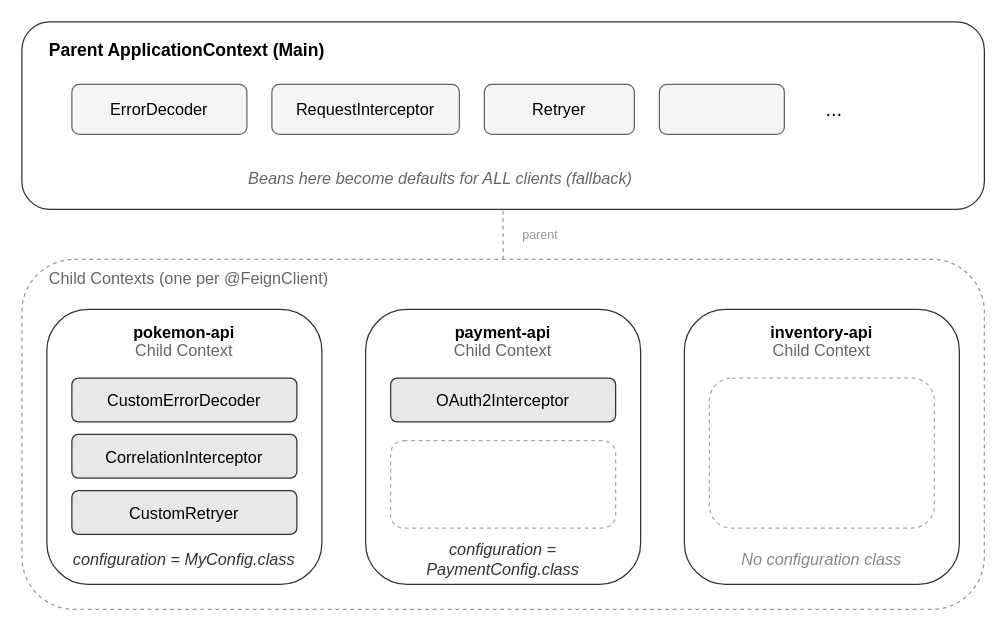
This 1006x631 diagram has some shape labels left out. The shapes that lost their labels are listed below. From the top down, each one's box as (x1, y1, x2, y2) in pixels, then its label:
(658, 83, 784, 134): Client
(708, 377, 934, 528): No custom beans (uses all parent defaults)
(389, 439, 616, 528): No ErrorDecoder (uses parent's)
